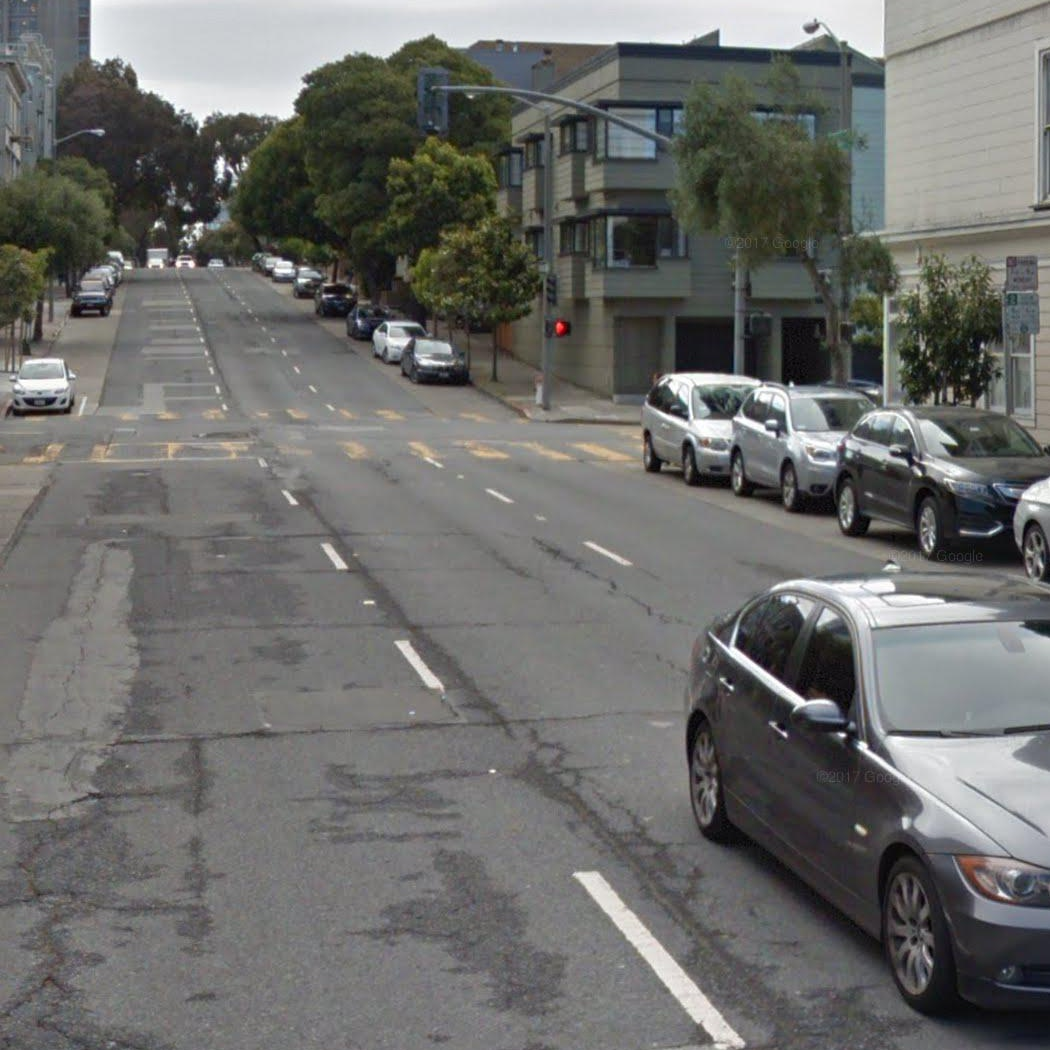2 Hour Parking: (1007, 293, 1040, 336)
No Parking: (1006, 255, 1040, 292)
